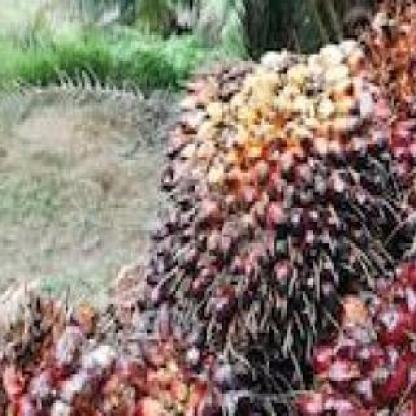Ripe: (155, 61, 381, 328), (0, 291, 269, 416)
